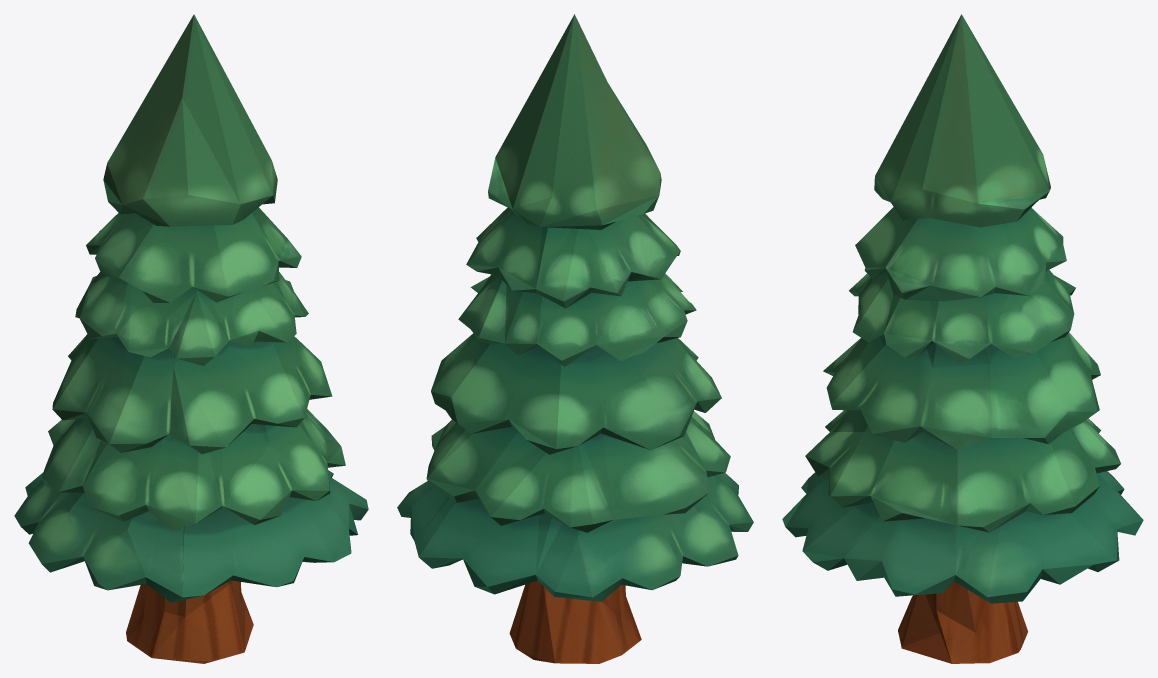
Rendered from pine.glb.
The picture shows the model from 3 angles, left to right: view 1: azimuth 30°, elevation 25°; view 2: azimuth 150°, elevation 25°; view 3: azimuth 270°, elevation 25°; orthographic projection.
Visible parts, largest first — view 1: geometry_0; view 2: geometry_0; view 3: geometry_0.
Part boxes in pixels (x1,y1,x2,y2): geometry_0: [14, 14, 368, 663]; geometry_0: [397, 14, 753, 663]; geometry_0: [782, 14, 1143, 663].
Bounding box in the file's own units: 3.42 × 6.62 × 3.43.
Materials: 1 (1 with a texture image).
